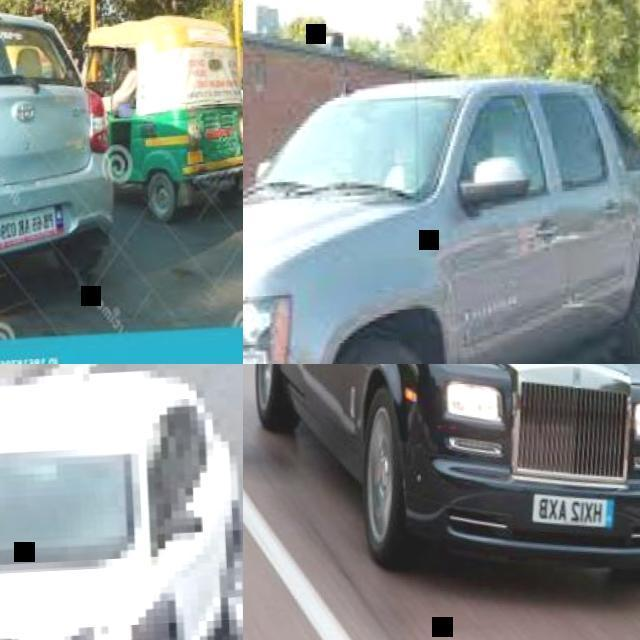car: (249, 66, 637, 575), (0, 368, 247, 639)
